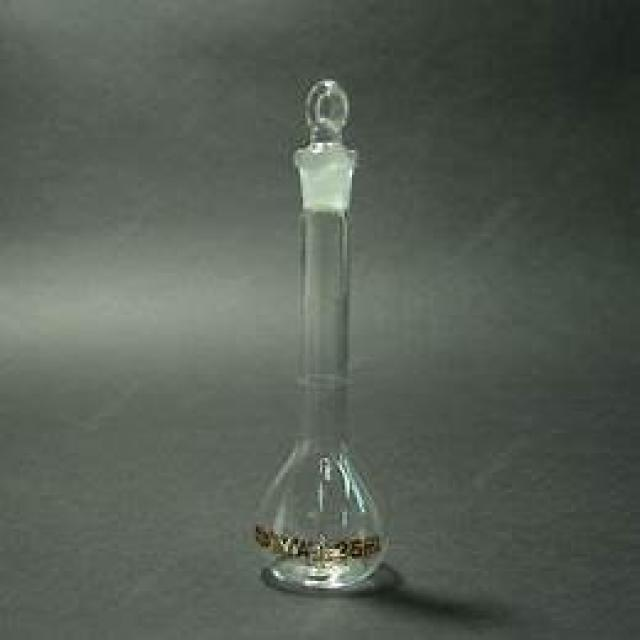Volumetric flask: (246, 60, 394, 589)
